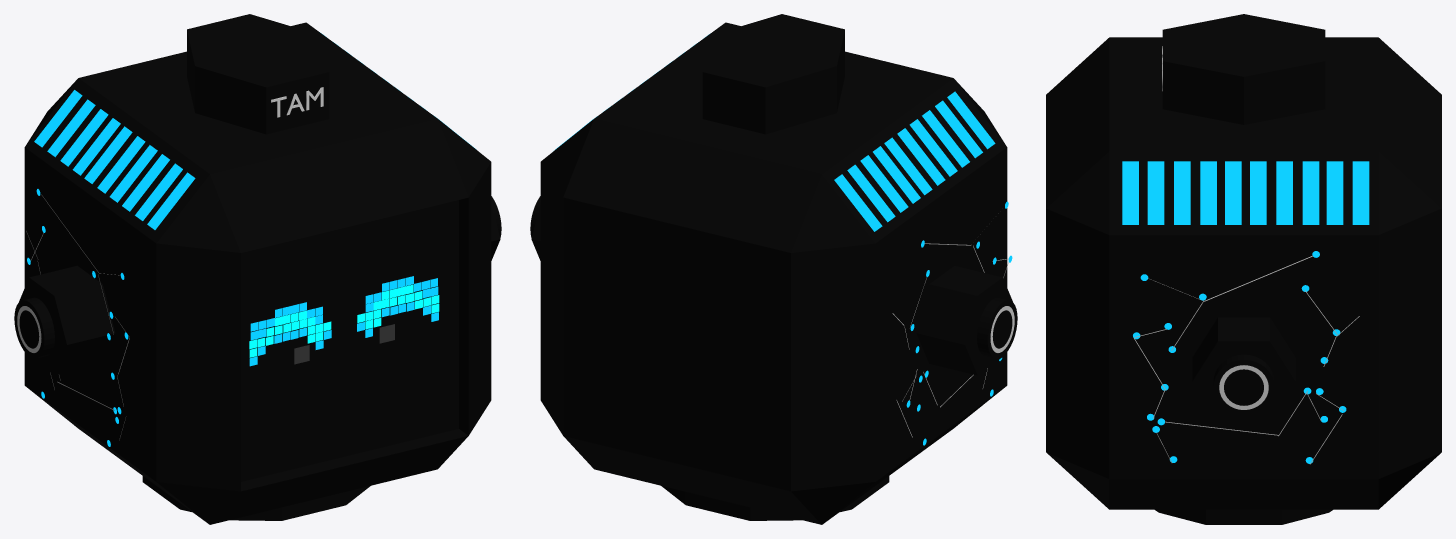
Rendered from TAM3DMascot_0757ee95.glb.
3 views of the same model, side by side, from view 1: azimuth 30°, elevation 25°; view 2: azimuth 150°, elevation 25°; view 3: azimuth 270°, elevation 25° (orthographic). The views are drawn at different scales.
Parts seen in each view (by area): view 1: Cube, Cylinder, Cylinder.002, Plane.040, Plane.001, Cylinder.003, Cube.001, Circle.001, Plane.013, Plane.015, Plane.016, Plane.021 (+6 smaller); view 2: Cube, Cylinder, Cylinder.002, Cylinder.003, Cube.001, Circle.001, Plane.013, Plane.017, Plane.020, Plane.014, Plane.021, Plane.022 (+4 smaller); view 3: Cube, Cylinder, Cylinder.001, Cylinder.004, Cube.001, Circle.010, Plane.004, Plane.010, Plane.011, Plane.012, Plane.003, Plane.005 (+4 smaller).
Part boxes in pixels (<box>): Cube: <box>24,22,491,524</box>; Cylinder: <box>187,14,329,134</box>; Cylinder.002: <box>19,265,115,375</box>; Plane.040: <box>249,302,331,366</box>; Plane.001: <box>357,276,439,337</box>; Cylinder.003: <box>14,297,54,358</box>; Cube.001: <box>142,476,370,520</box>; Circle.001: <box>26,189,129,446</box>; Plane.013: <box>147,172,195,229</box>; Plane.015: <box>122,154,169,211</box>; Plane.016: <box>109,145,157,202</box>; Plane.021: <box>47,99,95,157</box>; Cube: <box>540,22,1007,524</box>; Cylinder: <box>702,14,844,134</box>; Cylinder.002: <box>916,265,1012,375</box>; Cylinder.003: <box>977,297,1017,358</box>; Cube.001: <box>661,476,889,520</box>; Circle.001: <box>892,201,1012,445</box>; Plane.013: <box>947,91,995,149</box>; Plane.017: <box>897,128,945,185</box>; Plane.020: <box>860,155,908,212</box>; Plane.014: <box>935,100,982,158</box>; Plane.021: <box>847,164,895,222</box>; Plane.022: <box>834,174,882,231</box>; Cube: <box>1046,37,1441,509</box>; Cylinder: <box>1162,14,1325,124</box>; Cylinder.001: <box>1192,317,1295,422</box>; Cylinder.004: <box>1213,354,1274,415</box>; Cube.001: <box>1155,509,1332,524</box>; Circle.010: <box>1133,251,1359,464</box>; Plane.004: <box>1147,161,1164,224</box>; Plane.010: <box>1302,161,1319,224</box>; Plane.011: <box>1326,161,1343,224</box>; Plane.012: <box>1352,161,1369,224</box>; Plane.003: <box>1122,161,1138,224</box>; Plane.005: <box>1174,161,1190,224</box>.
Bounding box in the file's own units: 2.73 × 2.4 × 2.
